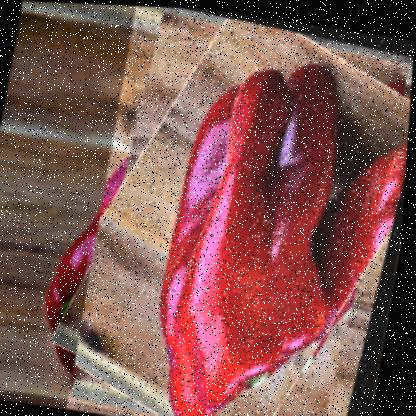capsicum: (68, 3, 415, 416)
